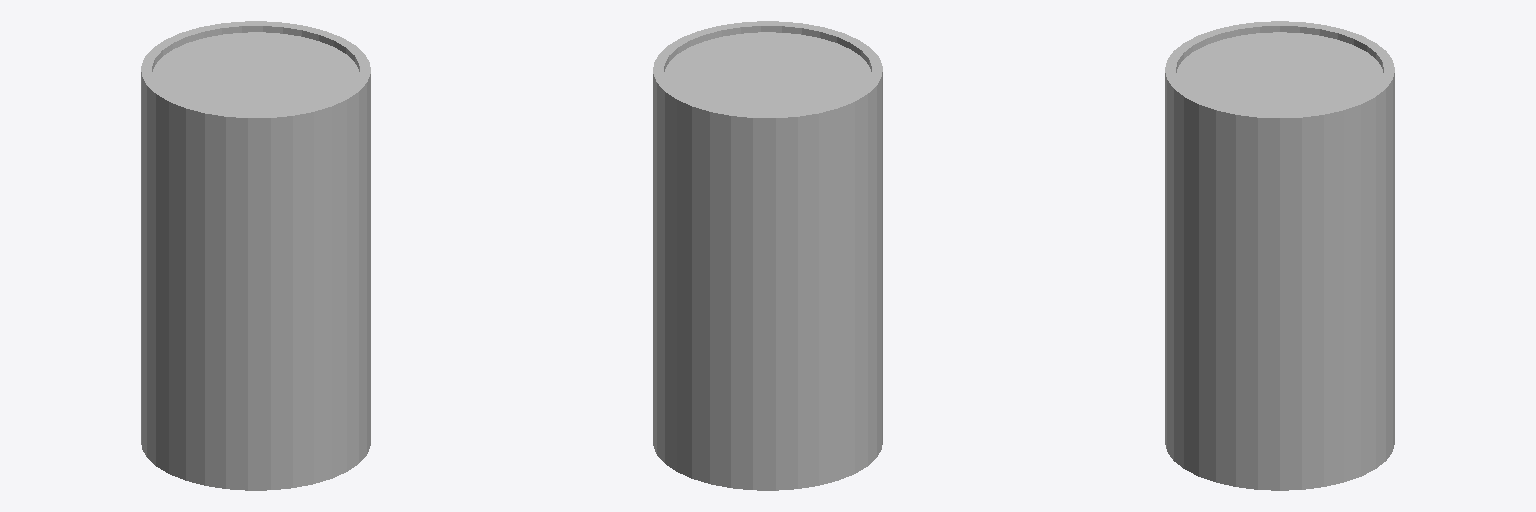
The model's file is Barrel.obj.
3 renders of one model, left to right at view 1: azimuth 30°, elevation 25°; view 2: azimuth 150°, elevation 25°; view 3: azimuth 270°, elevation 25°, orthographic.
Visible parts, largest first — view 1: default_0; view 2: default_0; view 3: default_0.
Boxes of the visible parts, x1,y1,x2,y2 form: default_0: [141, 21, 370, 490]; default_0: [653, 21, 882, 490]; default_0: [1165, 21, 1394, 490].
Bounding box in the file's own units: 2 × 3.57 × 2.